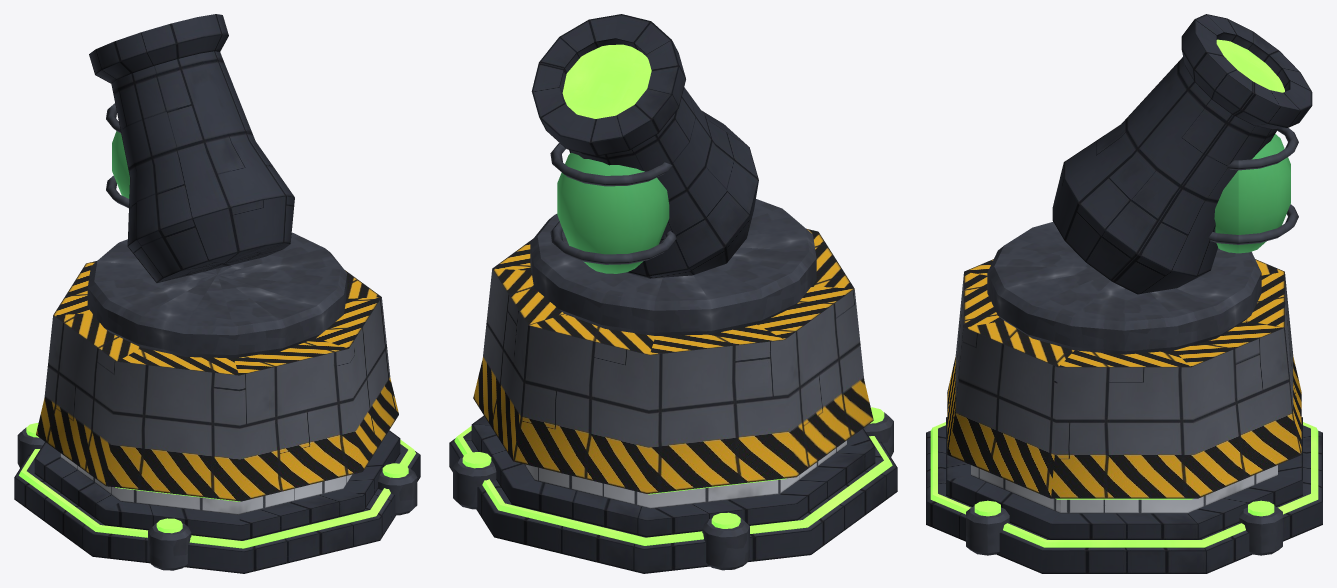
File: sf_acidmortar.glb
3 views of the same model, side by side, from view 1: azimuth 30°, elevation 25°; view 2: azimuth 150°, elevation 25°; view 3: azimuth 270°, elevation 25° (orthographic). The views are drawn at different scales.
Parts seen in each view (by area): view 1: Base, Turret; view 2: Base, Turret; view 3: Base, Turret.
Boxes of the visible parts, box(x1,y1,x2,y2) form: Base: box(14, 261, 420, 573); Turret: box(87, 14, 347, 358); Base: box(449, 228, 897, 573); Turret: box(530, 14, 816, 335); Base: box(926, 259, 1322, 573); Turret: box(987, 14, 1312, 354).
Bounding box in the file's own units: 0.8684 × 1.12 × 0.8684.
6 materials, 6 textured.
